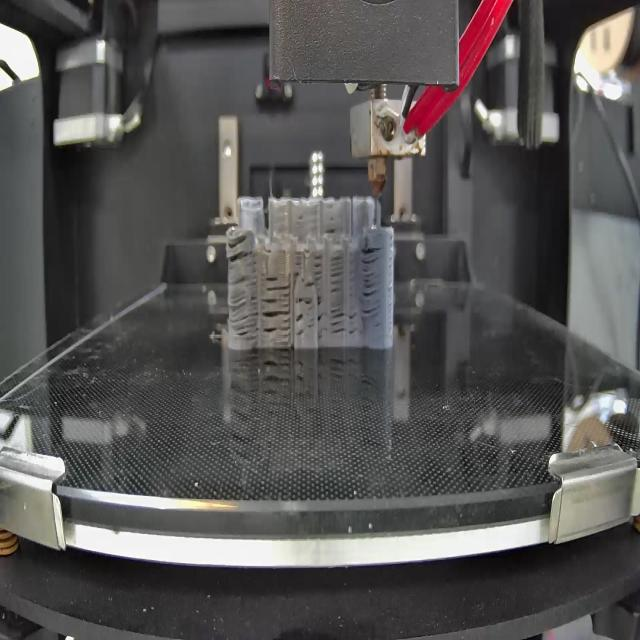cracks: (228, 276, 260, 338), (360, 245, 380, 319), (262, 296, 292, 339), (225, 236, 255, 262), (263, 275, 291, 294), (295, 293, 323, 309), (330, 256, 342, 292), (332, 308, 346, 336), (293, 251, 304, 279), (322, 225, 344, 237), (313, 254, 323, 280), (316, 313, 326, 339), (349, 311, 358, 337), (296, 315, 306, 337), (306, 283, 316, 289)
